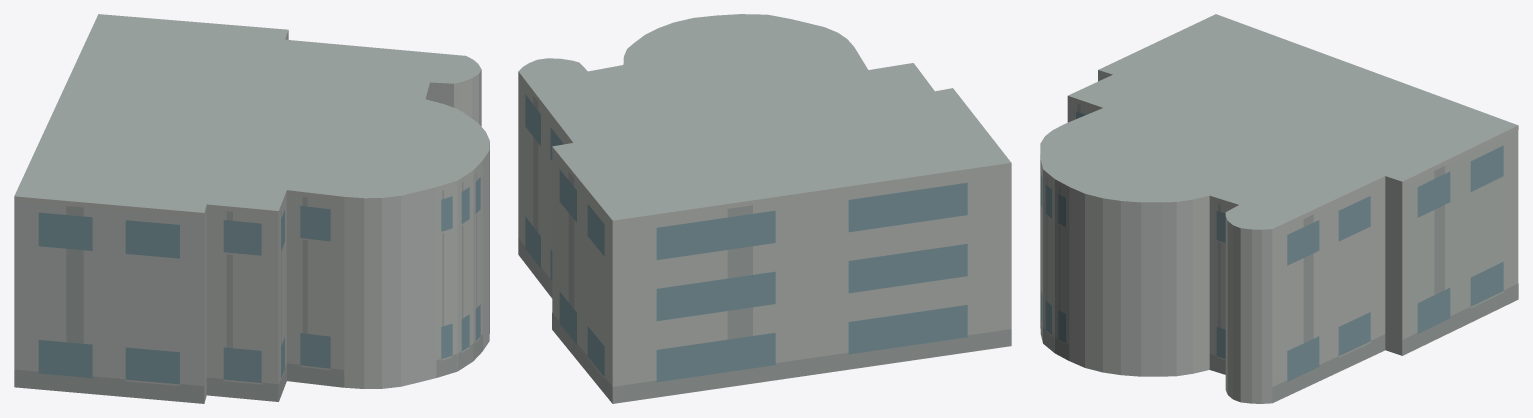
Rendered from survey-upis-32949590.glb.
3 renders of one model, left to right at view 1: azimuth 30°, elevation 25°; view 2: azimuth 150°, elevation 25°; view 3: azimuth 270°, elevation 25°, orthographic. The views are drawn at different scales.
Visible parts, largest first — view 1: survey-upis-32949590.tmp; view 2: survey-upis-32949590.tmp; view 3: survey-upis-32949590.tmp.
Part boxes in pixels (bbox=[...]): survey-upis-32949590.tmp: bbox=[14, 14, 489, 403]; survey-upis-32949590.tmp: bbox=[518, 14, 1011, 403]; survey-upis-32949590.tmp: bbox=[1040, 14, 1518, 403].
Bounding box in the file's own units: 24.3 × 9.15 × 22.75.
